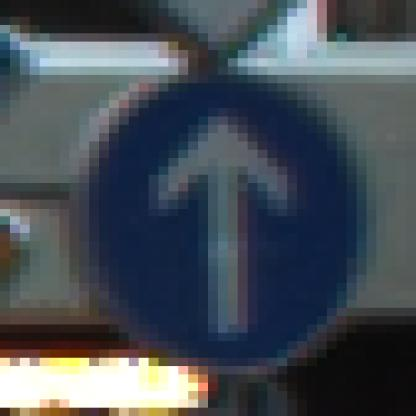AheadOnly: (51, 51, 358, 375)
